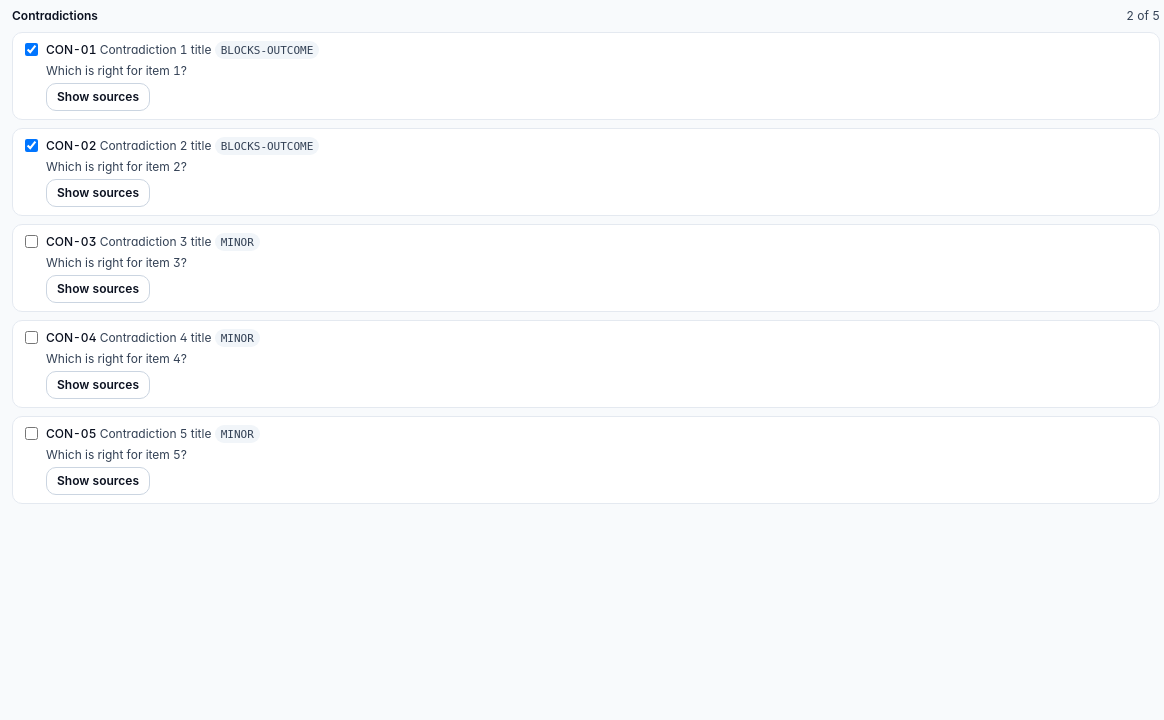
Test case: BriefForm: contradictions › disables the unticked boxes with the reason once the limit is reached, and frees them on untick
Click the checkbox named "Include CON-03" at (32, 242), box [25, 235, 38, 248]
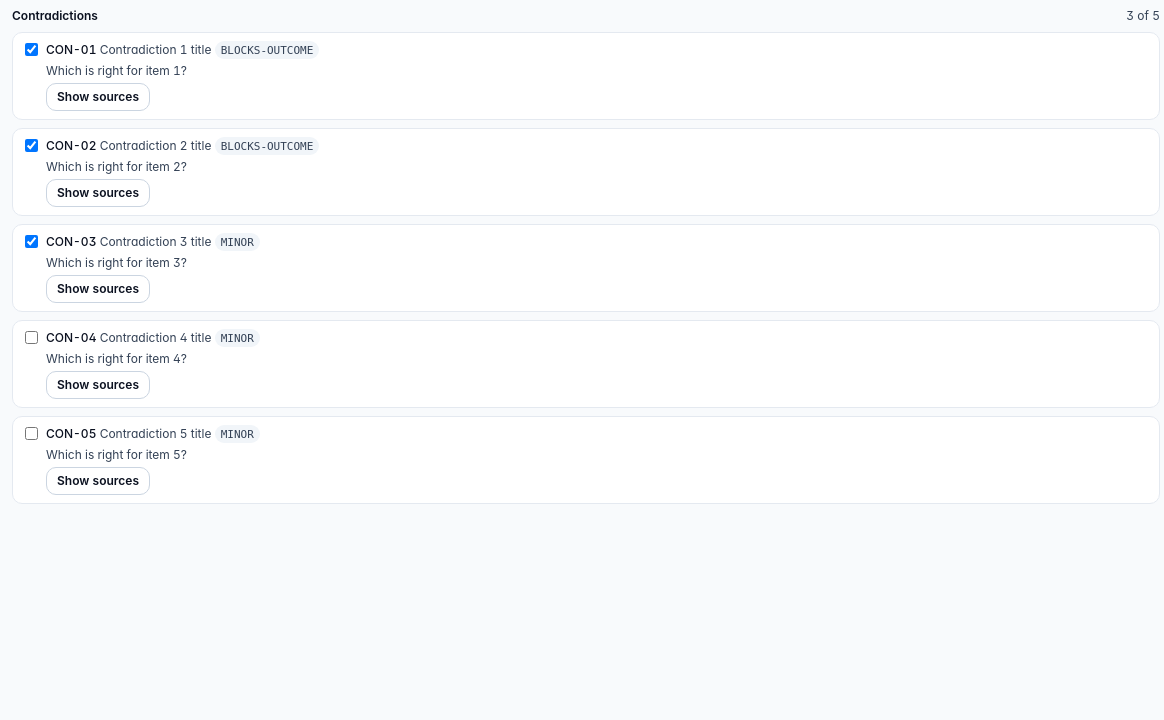
Click the checkbox named "Include CON-04" at (32, 338), box [25, 331, 38, 344]
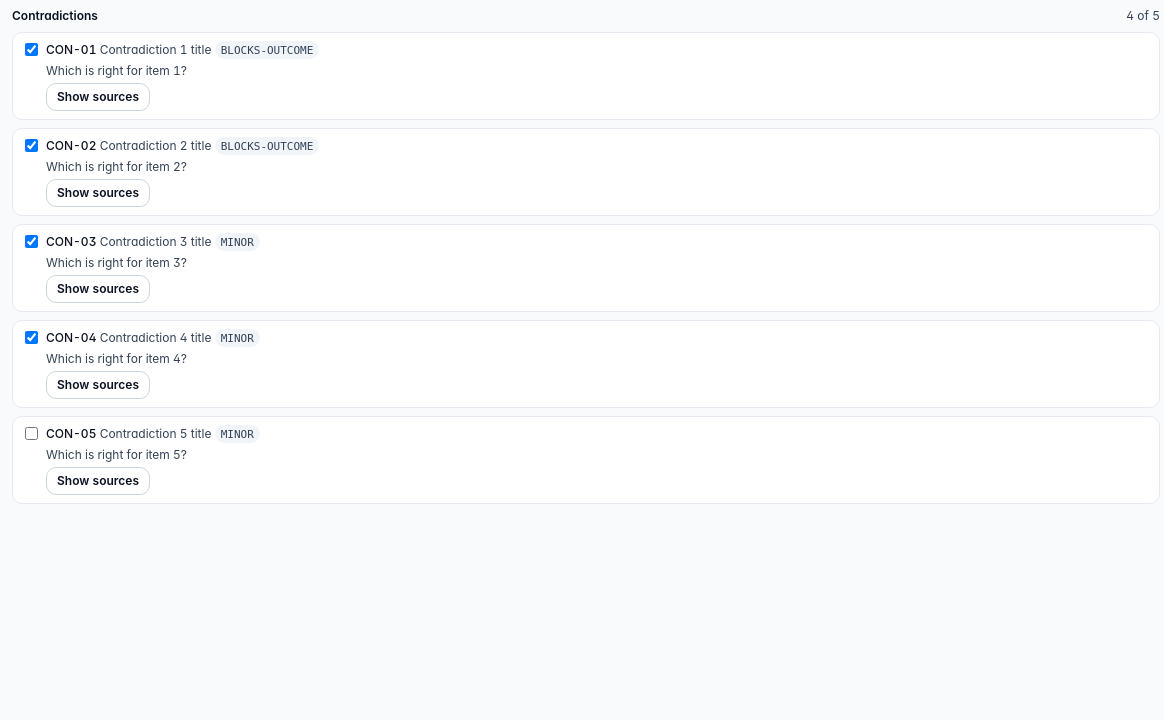
Click the checkbox named "Include CON-05" at (32, 434), box [25, 427, 38, 440]
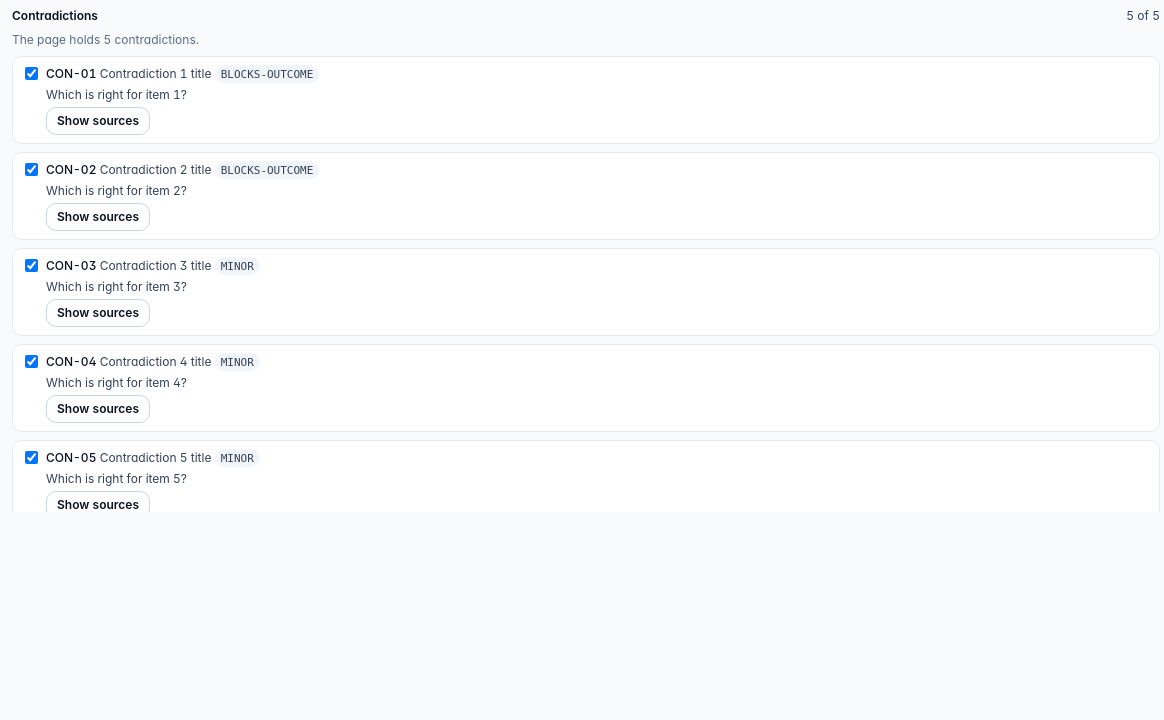
Check: the text with test id "brief-contradictions-counter" reads "5 of 5", box [1126, 8, 1160, 23]
Check: the text "The page holds 5 contradictions." is shown, box [12, 32, 199, 47]
Click the checkbox named "Include CON-01" at (32, 74), box [25, 67, 38, 80]
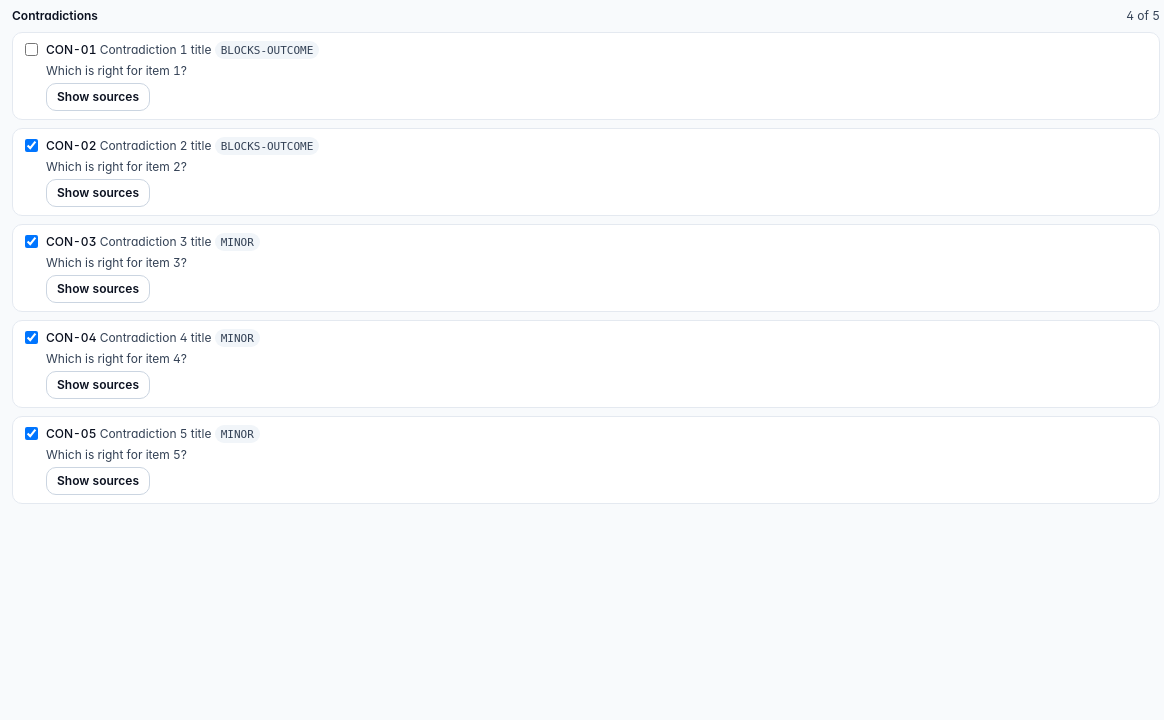
Check: the text "The page holds 5 contradictions." is gone
